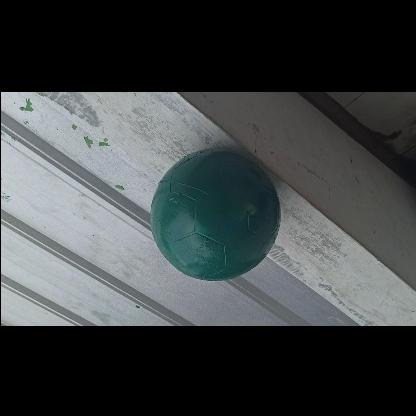green_ball: (147, 151, 279, 283)
